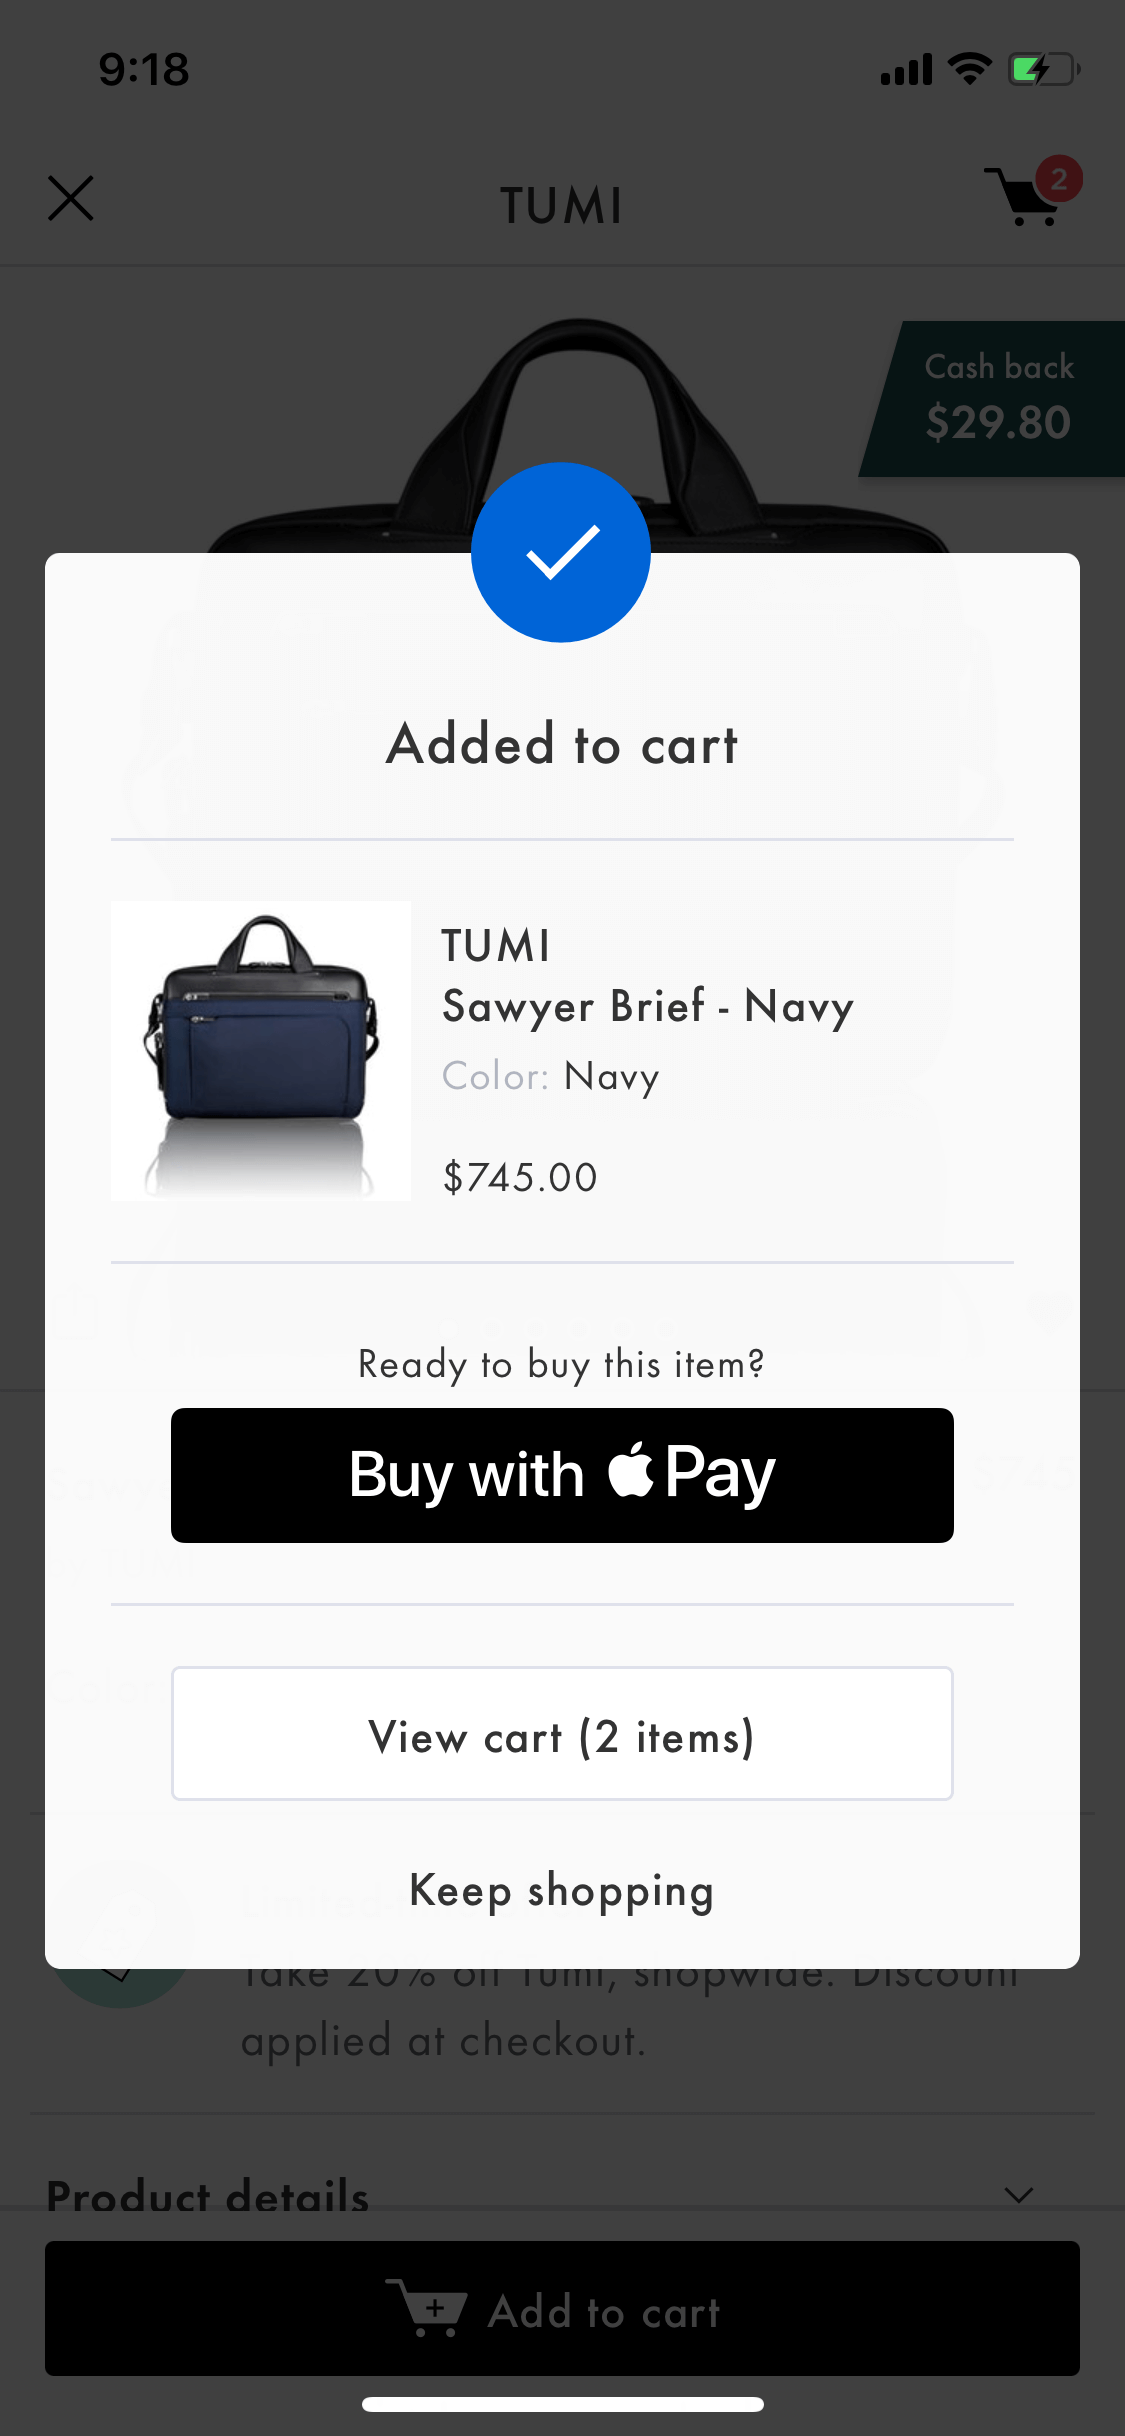Buttons: (25, 2223, 1092, 2391), (154, 1650, 967, 1810), (154, 1397, 963, 1557), (348, 1836, 768, 1947), (957, 141, 1094, 242), (19, 141, 120, 242)
